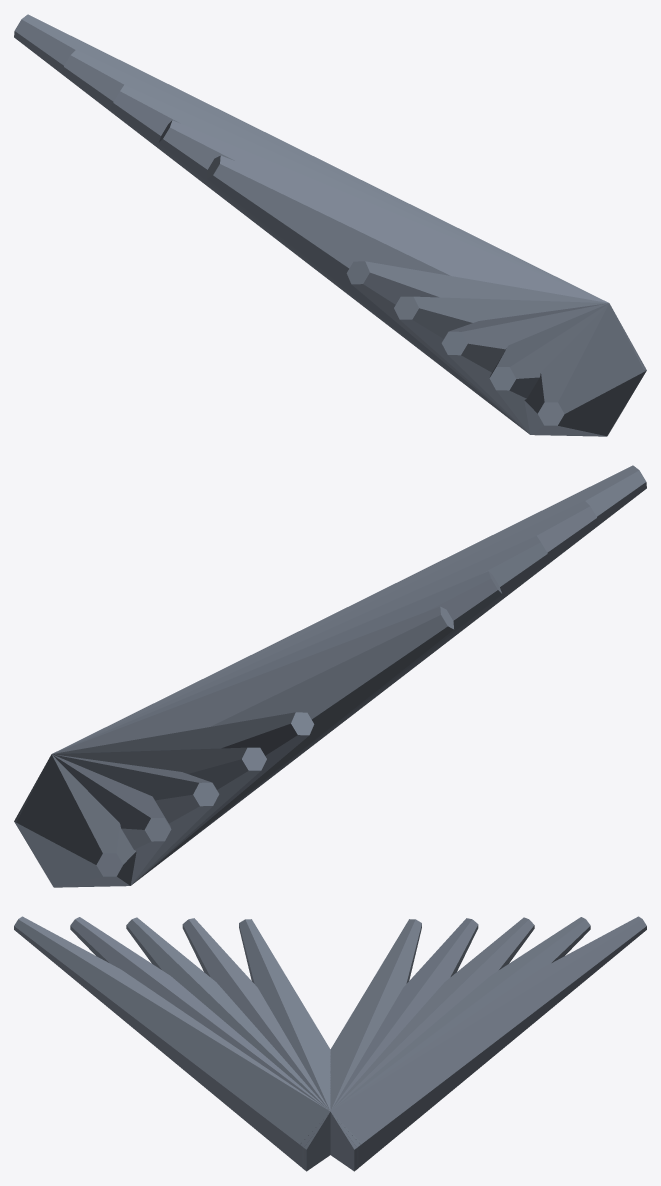
The model's file is ala_cuervo.glb.
The picture shows the model from 3 angles, top to bottom: view 1: azimuth 30°, elevation 25°; view 2: azimuth 150°, elevation 25°; view 3: azimuth 270°, elevation 25°; orthographic projection. The views are drawn at different scales.
Visible parts, largest first — view 1: ala_cuervo; view 2: ala_cuervo; view 3: ala_cuervo.
Boxes of the visible parts, x1,y1,x2,y2 form: ala_cuervo: (14, 14, 646, 436); ala_cuervo: (14, 465, 646, 887); ala_cuervo: (14, 916, 646, 1171).
Bounding box in the file's own units: 0.4199 × 0.3261 × 1.11.
